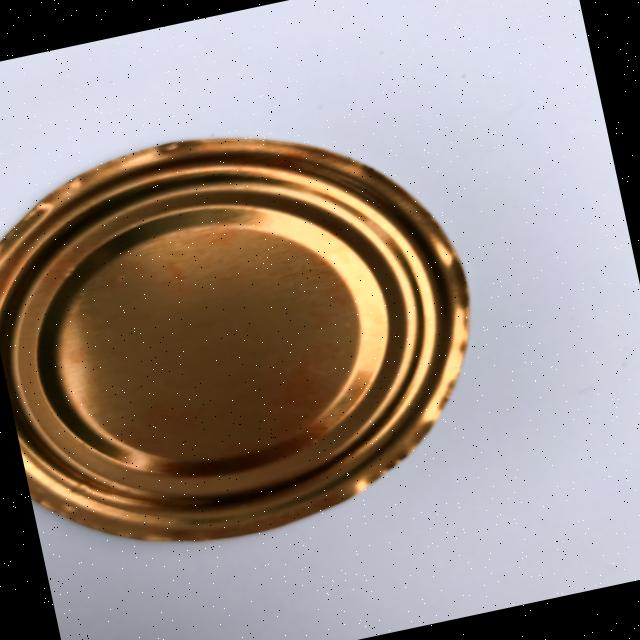metal: (0, 86, 509, 577)
